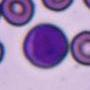L: (22, 23, 68, 69)
